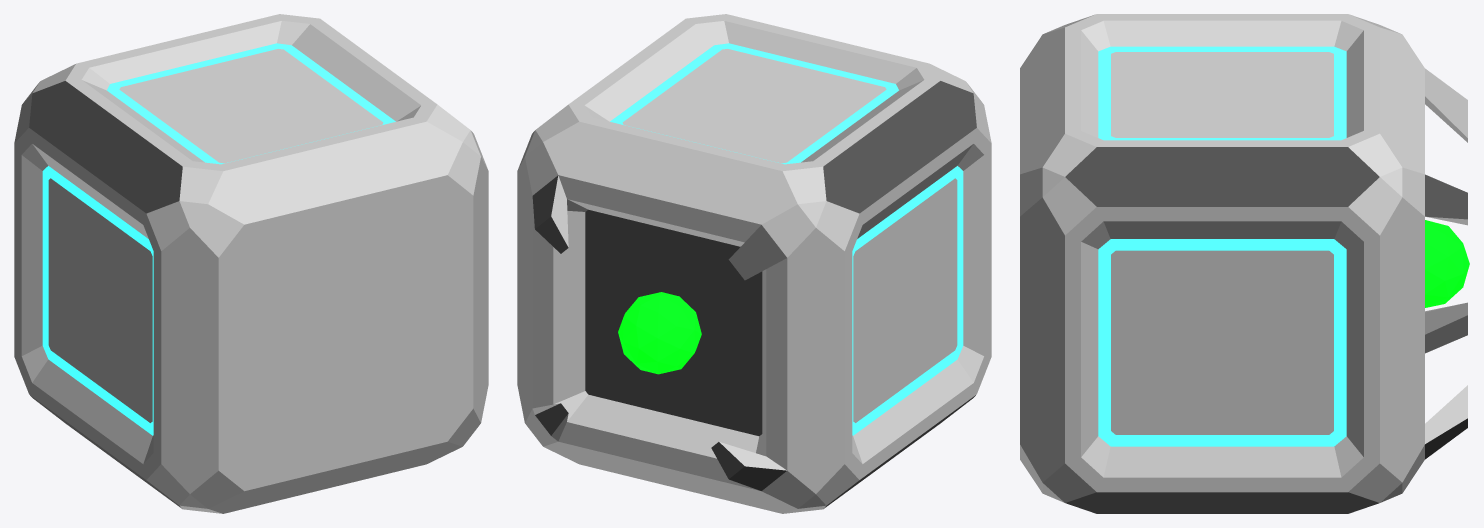
Rendered from Player.fbx.
3 views of the same model, side by side, from view 1: azimuth 30°, elevation 25°; view 2: azimuth 150°, elevation 25°; view 3: azimuth 270°, elevation 25° (orthographic). The views are drawn at different scales.
Visible parts, largest first — view 1: PlayerModel; view 2: PlayerModel; view 3: PlayerModel.
Boxes of the visible parts, x1=… form: PlayerModel: x1=14, y1=14, x2=488, y2=513; PlayerModel: x1=517, y1=14, x2=991, y2=513; PlayerModel: x1=1020, y1=14, x2=1469, y2=513.
Bounding box in the file's own units: 90 × 90 × 100.
